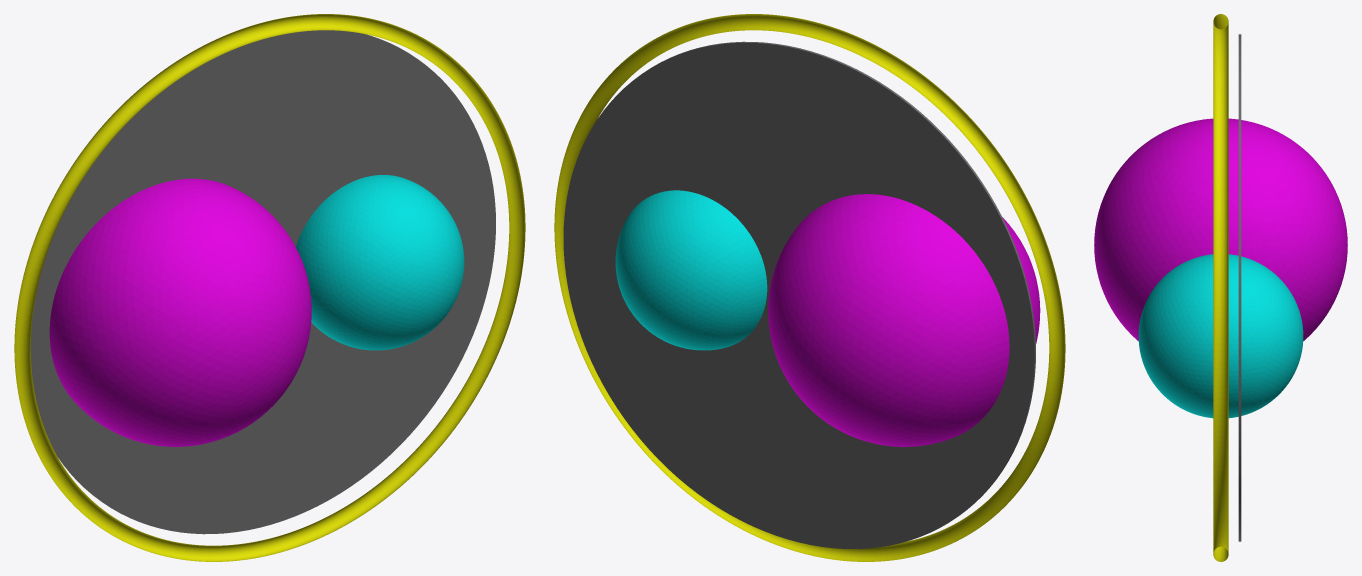
File: arrokoth_portal_glow_neon.glb
The picture shows the model from 3 angles, left to right: view 1: azimuth 30°, elevation 25°; view 2: azimuth 150°, elevation 25°; view 3: azimuth 270°, elevation 25°; orthographic projection. The views are drawn at different scales.
Parts seen in each view (by area): view 1: world; view 2: world; view 3: world.
Boxes of the visible parts, box(x1,y1,x2,y2) form: world: box(14, 14, 525, 561); world: box(554, 14, 1065, 561); world: box(1094, 14, 1347, 561).
Size of the model in its own units: 4.32 by 4.32 by 2.
